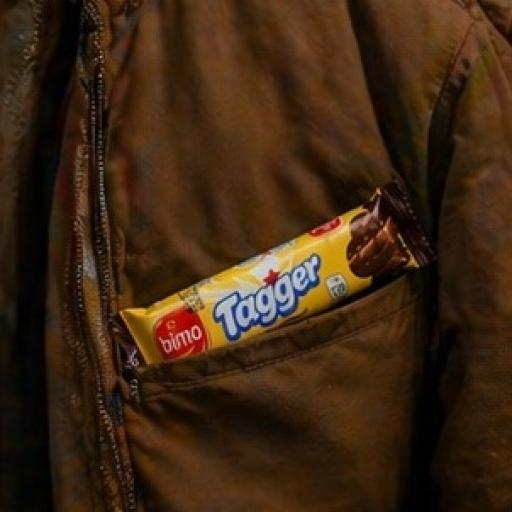tagger: (93, 160, 486, 406)
